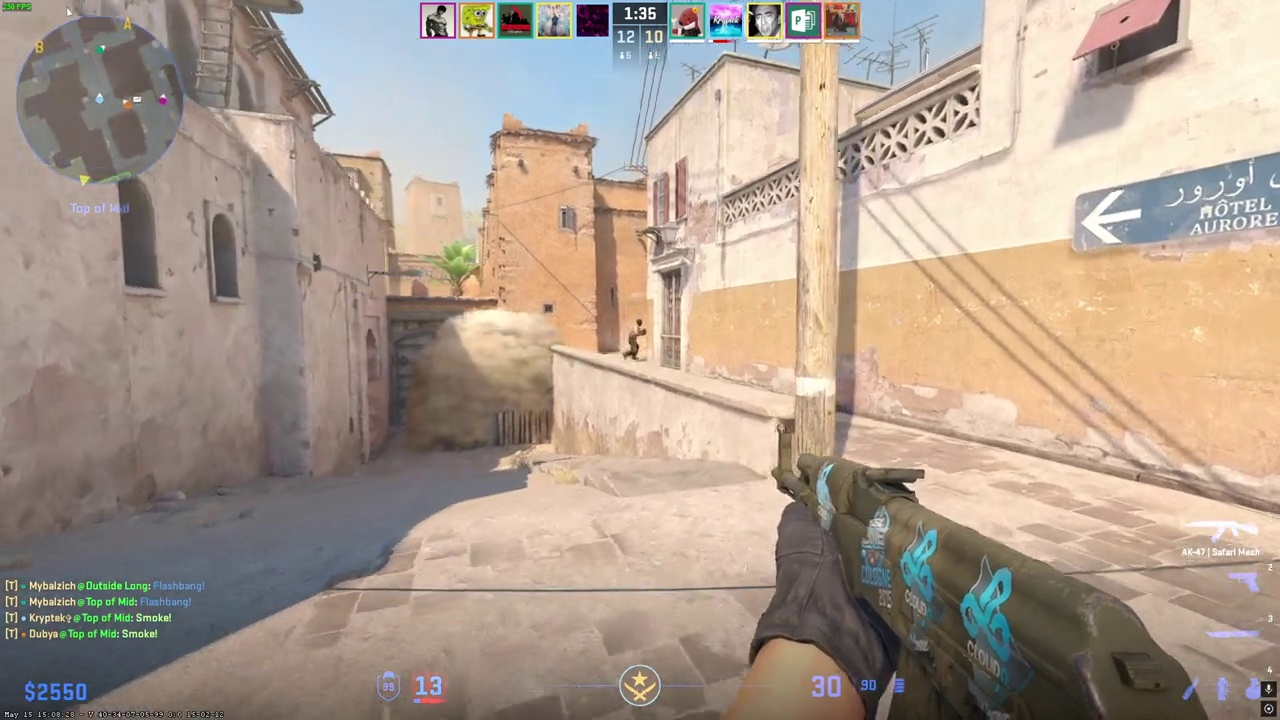Terrorist: (625, 318, 646, 360)
